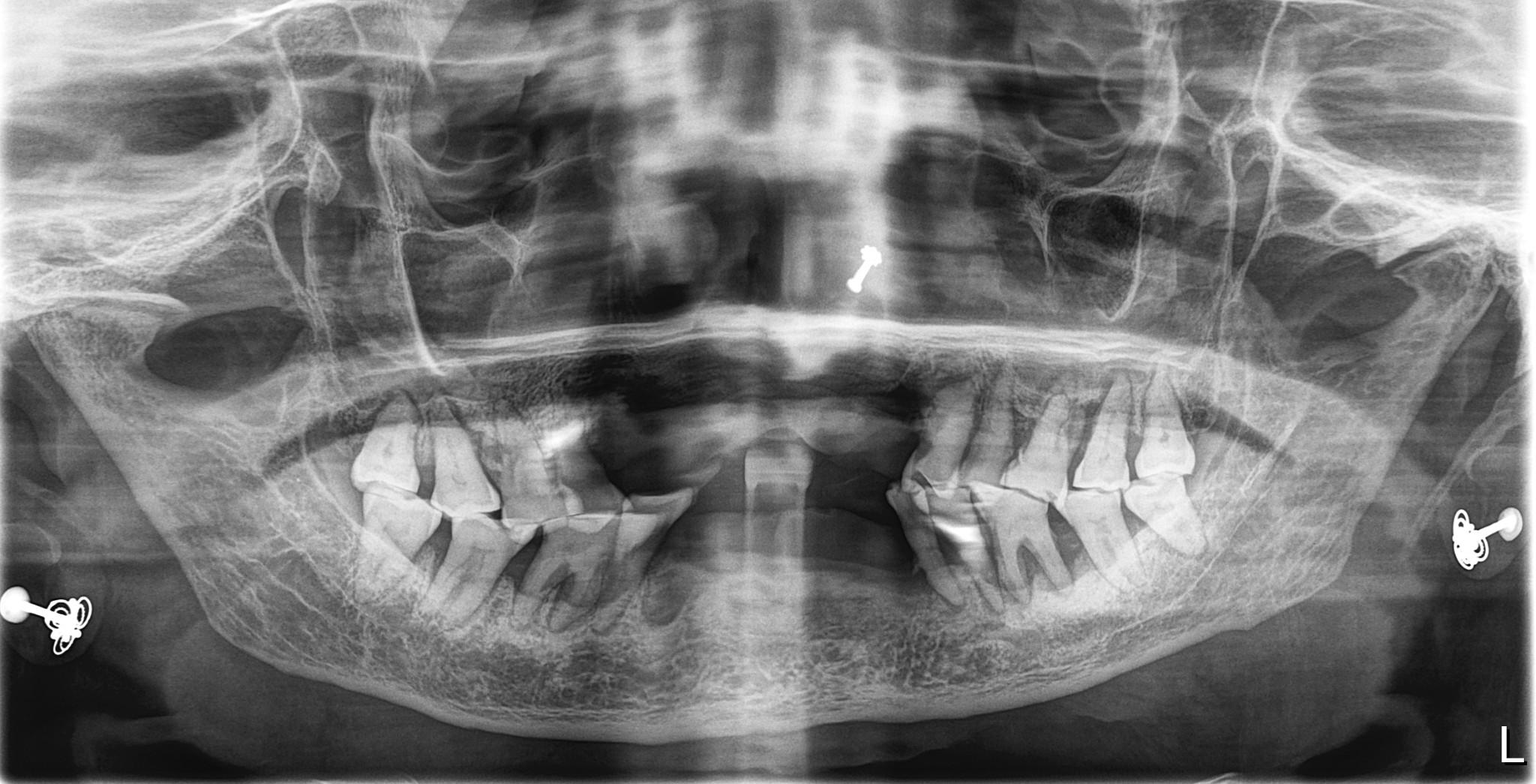Missing Tooth: (609, 407, 920, 597)
Periodontal Pocket: (366, 378, 1250, 631)
